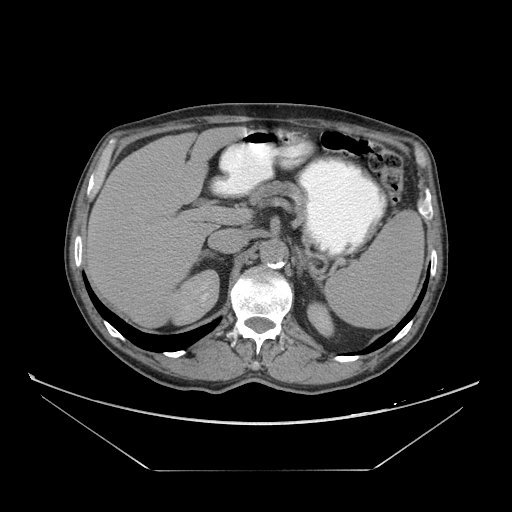left_kidney: (164, 264, 227, 325)
right_kidney: (302, 289, 344, 344)
